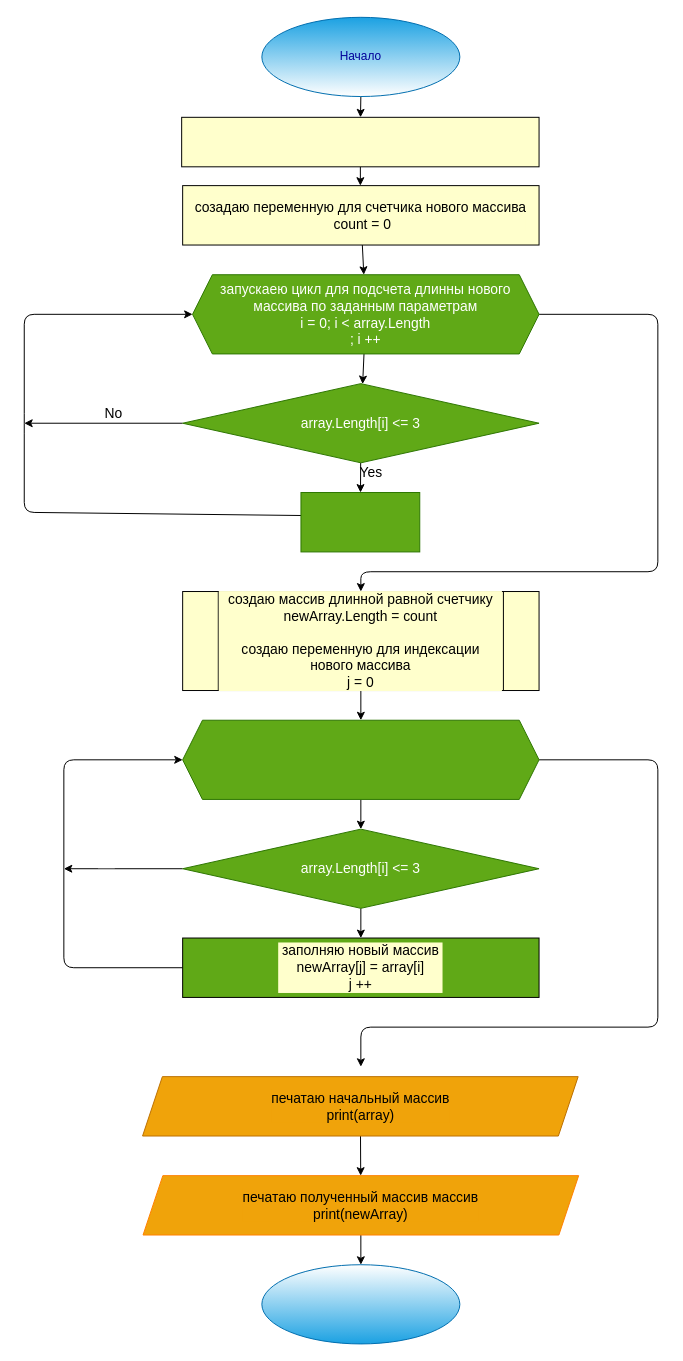
The diagram is 683 pixels wide and 1361 high, and some of its shapes have lost their labels. The centre of each missing label's shape, as x and y in pixels:
"count ++" goes at [360,522].
"запускаю цикл для создания новго массива i = 0; i < array.Length; i ++" goes at [360,759].
"Конец" goes at [360,1304].
"на входе программы задается массив array" goes at [360,141].
